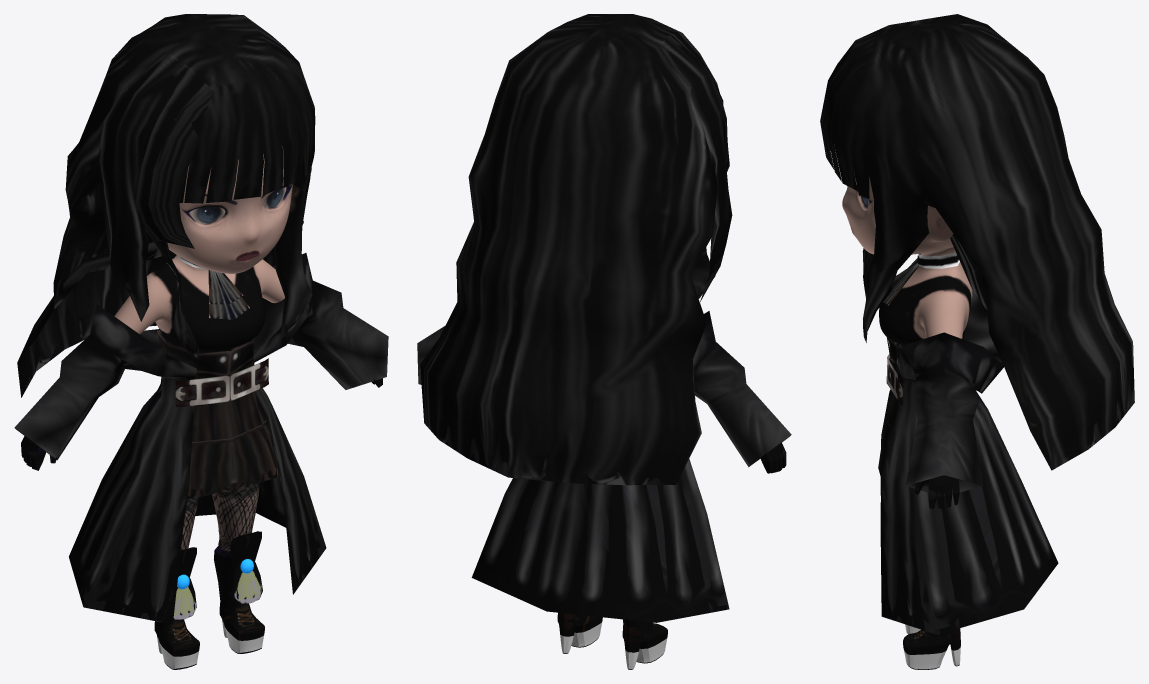
The model's file is Gaia_node.glb.
3 renders of one model, left to right at view 1: azimuth 30°, elevation 25°; view 2: azimuth 150°, elevation 25°; view 3: azimuth 270°, elevation 25°, orthographic.
Parts seen in each view (by area): view 1: Gaia.Hair.002, Gaia.Dress.001, Gaia.Body.001, Gaia.CorsetSkirt.001, Gaia.Boots.002, Gaia.neckRibon.001, Gaia.Eyeball.001, Gaia.Glove.001; view 2: Gaia.Hair.002, Gaia.Dress.001, Gaia.Boots.002, Gaia.Glove.001; view 3: Gaia.Hair.002, Gaia.Dress.001, Gaia.Body.001, Gaia.Boots.002, Gaia.Glove.001, Gaia.neckRibon.001, Gaia.CorsetSkirt.001.
Boxes of the visible parts, left/top/right/bottom form: Gaia.Hair.002: left=17, top=14, right=315, bottom=397; Gaia.Dress.001: left=14, top=253, right=388, bottom=624; Gaia.Body.001: left=114, top=146, right=292, bottom=551; Gaia.CorsetSkirt.001: left=156, top=330, right=278, bottom=498; Gaia.Boots.002: left=154, top=531, right=264, bottom=669; Gaia.neckRibon.001: left=176, top=254, right=249, bottom=319; Gaia.Eyeball.001: left=189, top=187, right=286, bottom=223; Gaia.Glove.001: left=21, top=378, right=382, bottom=470; Gaia.Hair.002: left=420, top=14, right=732, bottom=485; Gaia.Dress.001: left=417, top=311, right=791, bottom=622; Gaia.Boots.002: left=557, top=612, right=667, bottom=669; Gaia.Glove.001: left=760, top=442, right=786, bottom=473; Gaia.Hair.002: left=820, top=14, right=1134, bottom=470; Gaia.Dress.001: left=880, top=258, right=1058, bottom=634; Gaia.Body.001: left=842, top=171, right=972, bottom=345; Gaia.Boots.002: left=903, top=624, right=960, bottom=669; Gaia.Glove.001: left=915, top=475, right=959, bottom=508; Gaia.neckRibon.001: left=883, top=252, right=959, bottom=305; Gaia.CorsetSkirt.001: left=878, top=333, right=964, bottom=478.
Bounding box in the file's own units: 1.71 × 2.74 × 1.25.
Materials: 5 (3 with a texture image).
